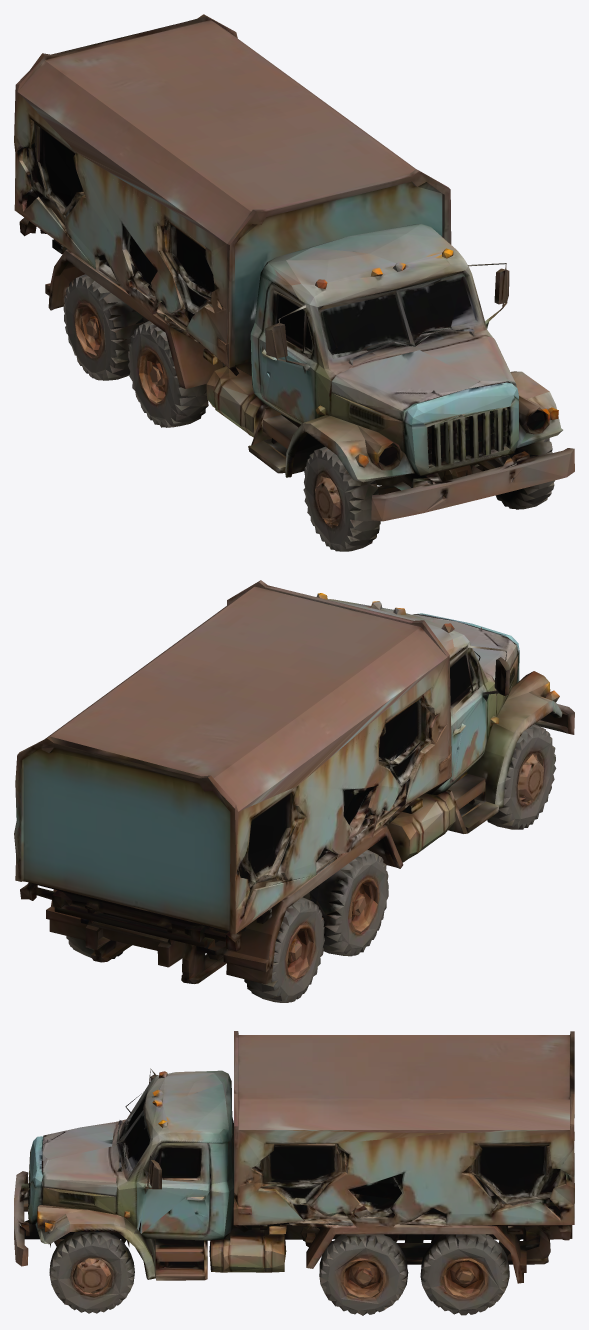
File: crashed-car-03.glb
3 views of the same model, one above another, from view 1: azimuth 30°, elevation 25°; view 2: azimuth 150°, elevation 25°; view 3: azimuth 270°, elevation 25° (orthographic). The views are drawn at different scales.
Visible parts, largest first — view 1: node_0; view 2: node_0; view 3: node_0.
Boxes of the visible parts, <box> form: node_0: <box>14,14,574,551</box>; node_0: <box>14,580,574,1002</box>; node_0: <box>14,1031,574,1315</box>.
Bounding box in the file's own units: 0.4261 × 0.452 × 1.07.
1 material, 1 textured.
